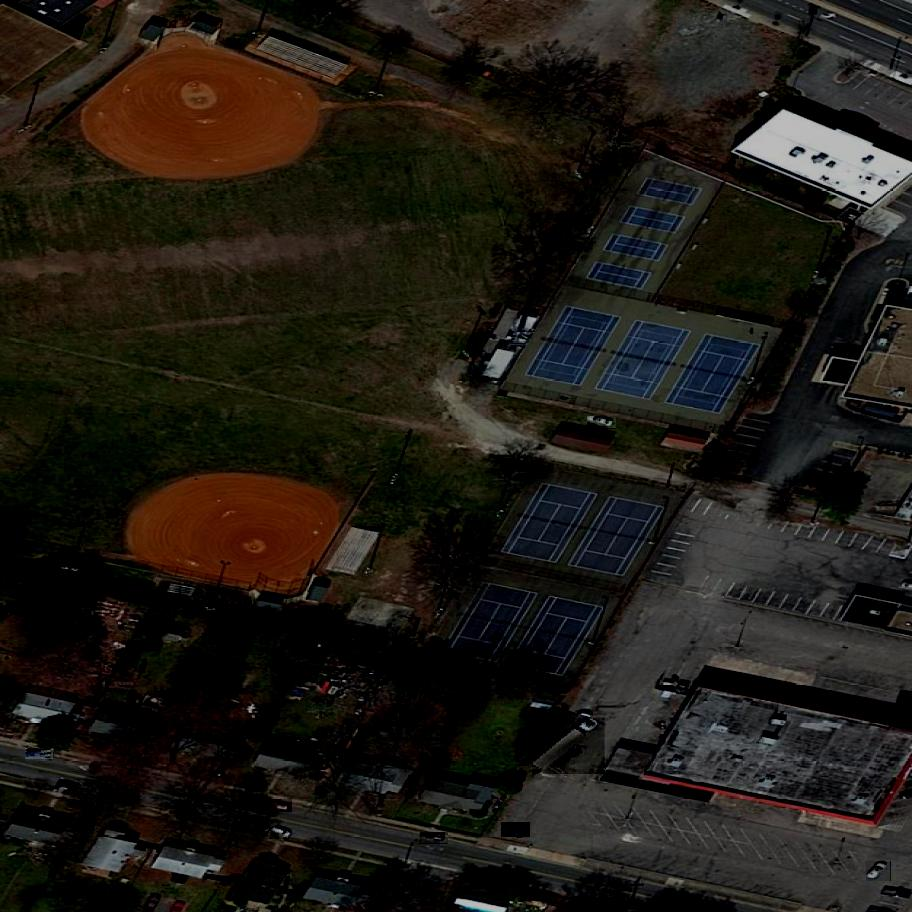large-vehicle: (532, 714, 605, 778)
small-vehicle: (867, 859, 892, 887), (502, 822, 530, 840), (263, 798, 292, 814), (588, 416, 617, 431), (112, 792, 140, 806), (420, 832, 448, 845), (269, 826, 294, 840), (239, 795, 268, 806), (25, 748, 54, 759)
